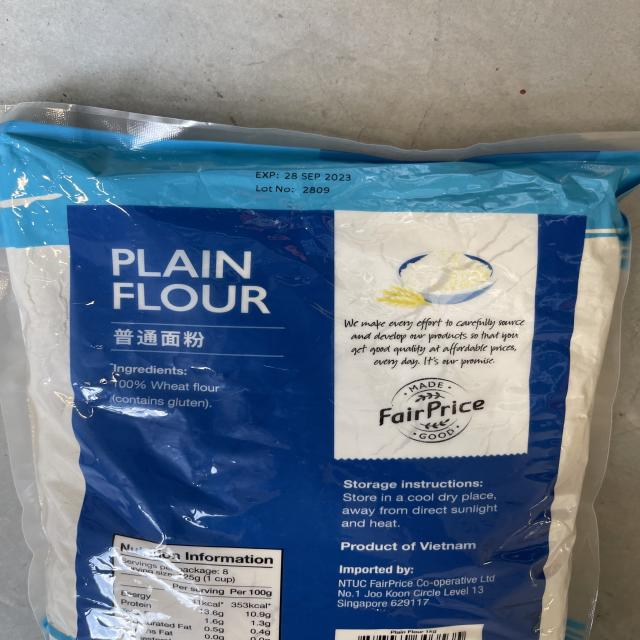object_name: (4, 108, 590, 640)
